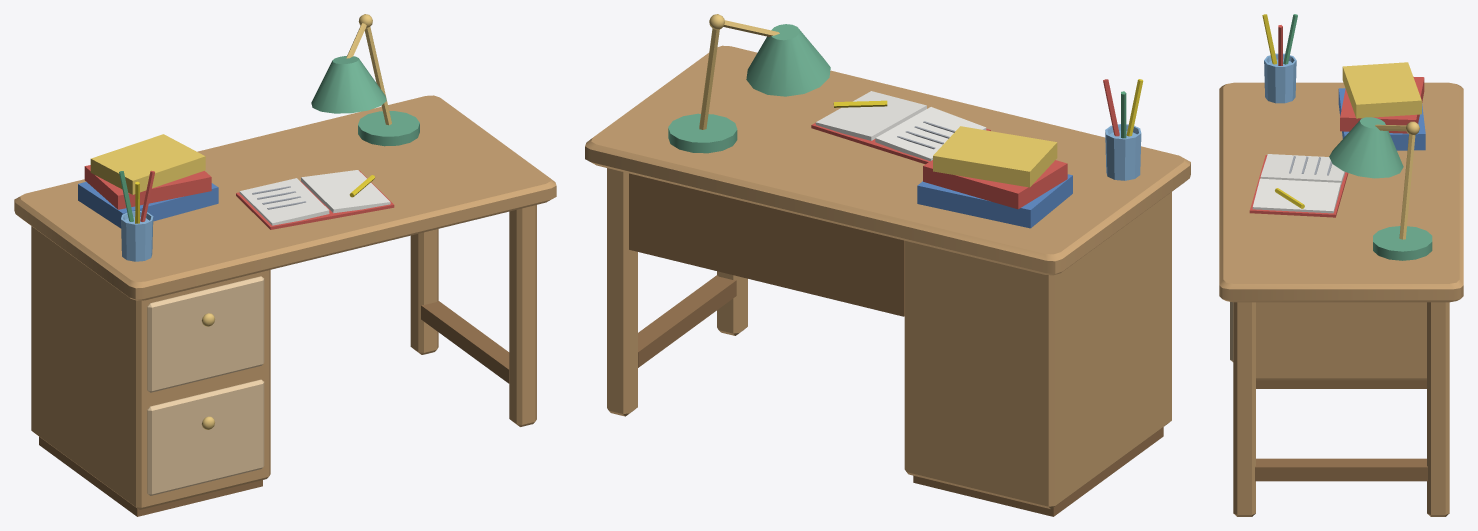
File: furn_desk.glb
3 renders of one model, left to right at view 1: azimuth 30°, elevation 25°; view 2: azimuth 150°, elevation 25°; view 3: azimuth 270°, elevation 25°, orthographic. The views are drawn at different scales.
Visible parts, largest first — view 1: furn_desk_body; view 2: furn_desk_body; view 3: furn_desk_body.
Boxes of the visible parts, x1,y1,x2,y2 form: furn_desk_body: (14, 14, 556, 516); furn_desk_body: (585, 14, 1190, 516); furn_desk_body: (1219, 14, 1463, 516).
Bounding box in the file's own units: 0.95 × 0.774 × 0.48.
